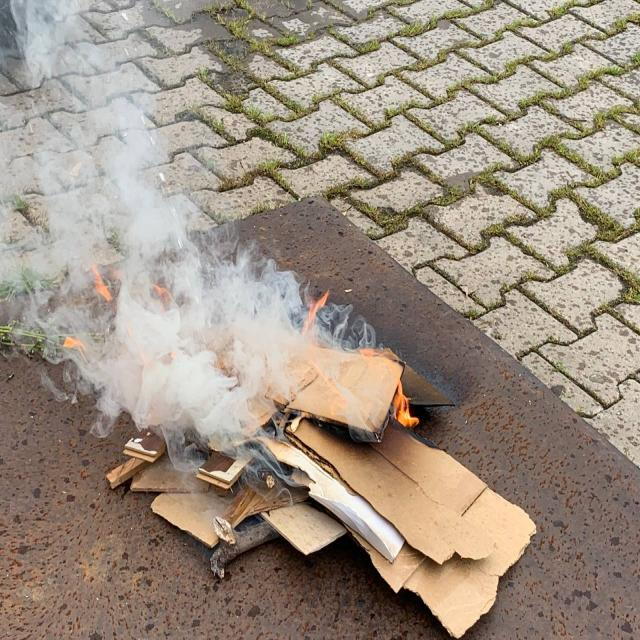fire: (82, 252, 414, 496)
